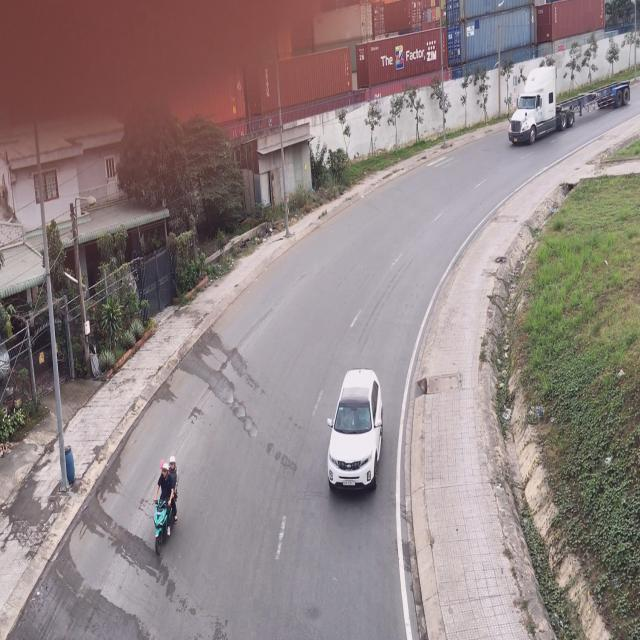car: (326, 367, 382, 495)
motorbike: (154, 458, 178, 550)
truck: (507, 66, 632, 148)
